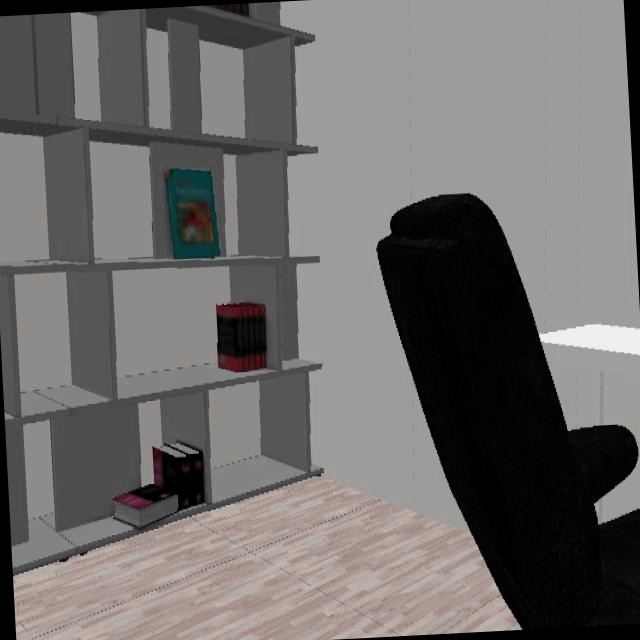book: (113, 440, 207, 528), (162, 168, 219, 262), (215, 302, 270, 374)
chair: (376, 195, 640, 630)
table: (542, 325, 640, 423)
